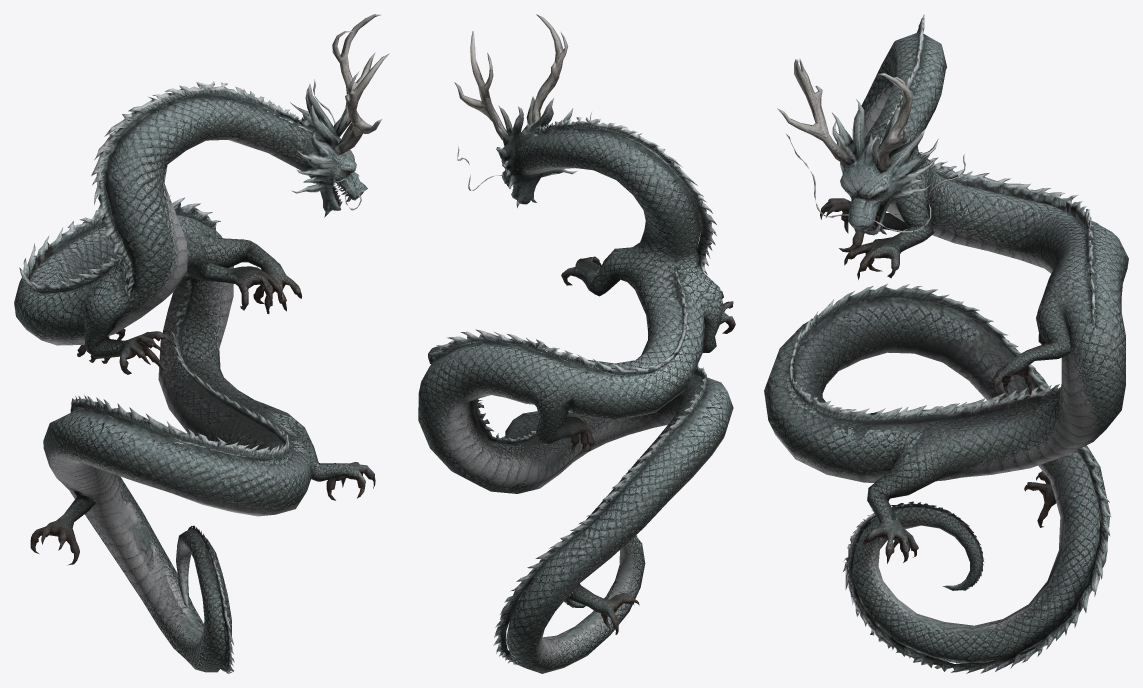
File: tripo_convert_858c60e0-2b71-4636-90ee-34e7bba1baa6.fbx
3 renders of one model, left to right at view 1: azimuth 30°, elevation 25°; view 2: azimuth 150°, elevation 25°; view 3: azimuth 270°, elevation 25°, orthographic. The views are drawn at different scales.
Parts seen in each view (by area): view 1: tripo_node_858c60e0; view 2: tripo_node_858c60e0; view 3: tripo_node_858c60e0.
Boxes of the visible parts, x1,y1,x2,y2 form: tripo_node_858c60e0: [14, 14, 389, 673]; tripo_node_858c60e0: [418, 14, 735, 673]; tripo_node_858c60e0: [764, 14, 1128, 673].
Bounding box in the file's own units: 0.4941 × 0.998 × 0.498.
1 material, 1 textured.
